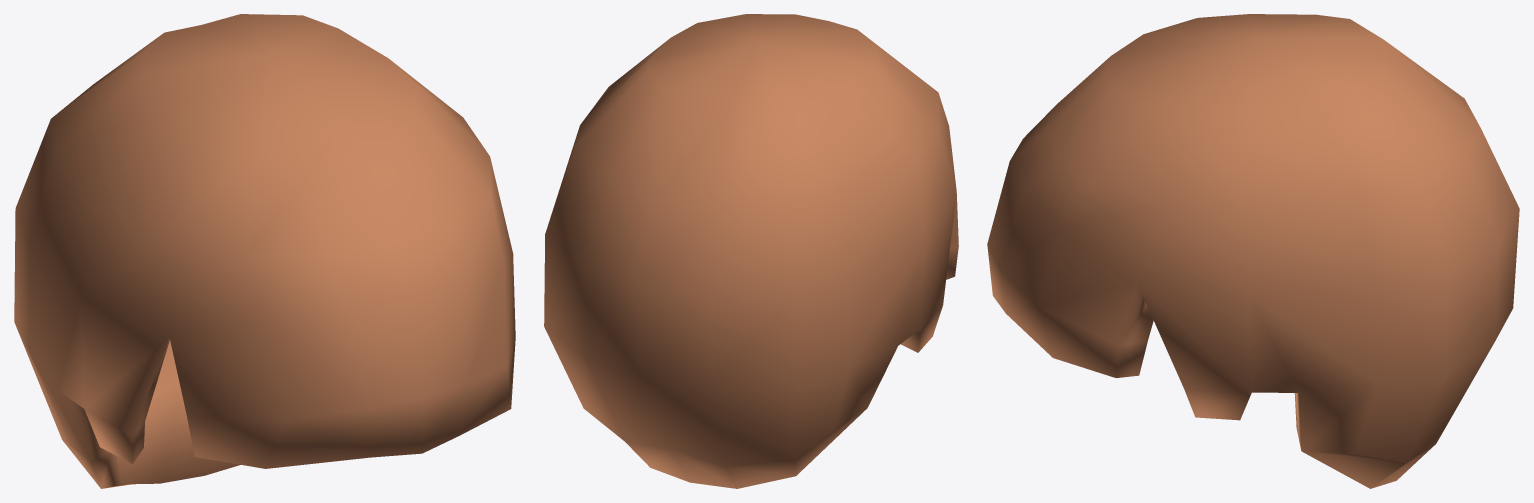
The model's file is Simple1.fbx.
The picture shows the model from 3 angles, left to right: view 1: azimuth 30°, elevation 25°; view 2: azimuth 150°, elevation 25°; view 3: azimuth 270°, elevation 25°; orthographic projection. The views are drawn at different scales.
Visible parts, largest first — view 1: 03 Hair - Simple; view 2: 03 Hair - Simple; view 3: 03 Hair - Simple.
Boxes of the visible parts, <box> form: 03 Hair - Simple: <box>14,14,515,488</box>; 03 Hair - Simple: <box>544,14,958,488</box>; 03 Hair - Simple: <box>987,14,1519,488</box>.
Bounding box in the file's own units: 0.2205 × 0.2529 × 0.2901.
